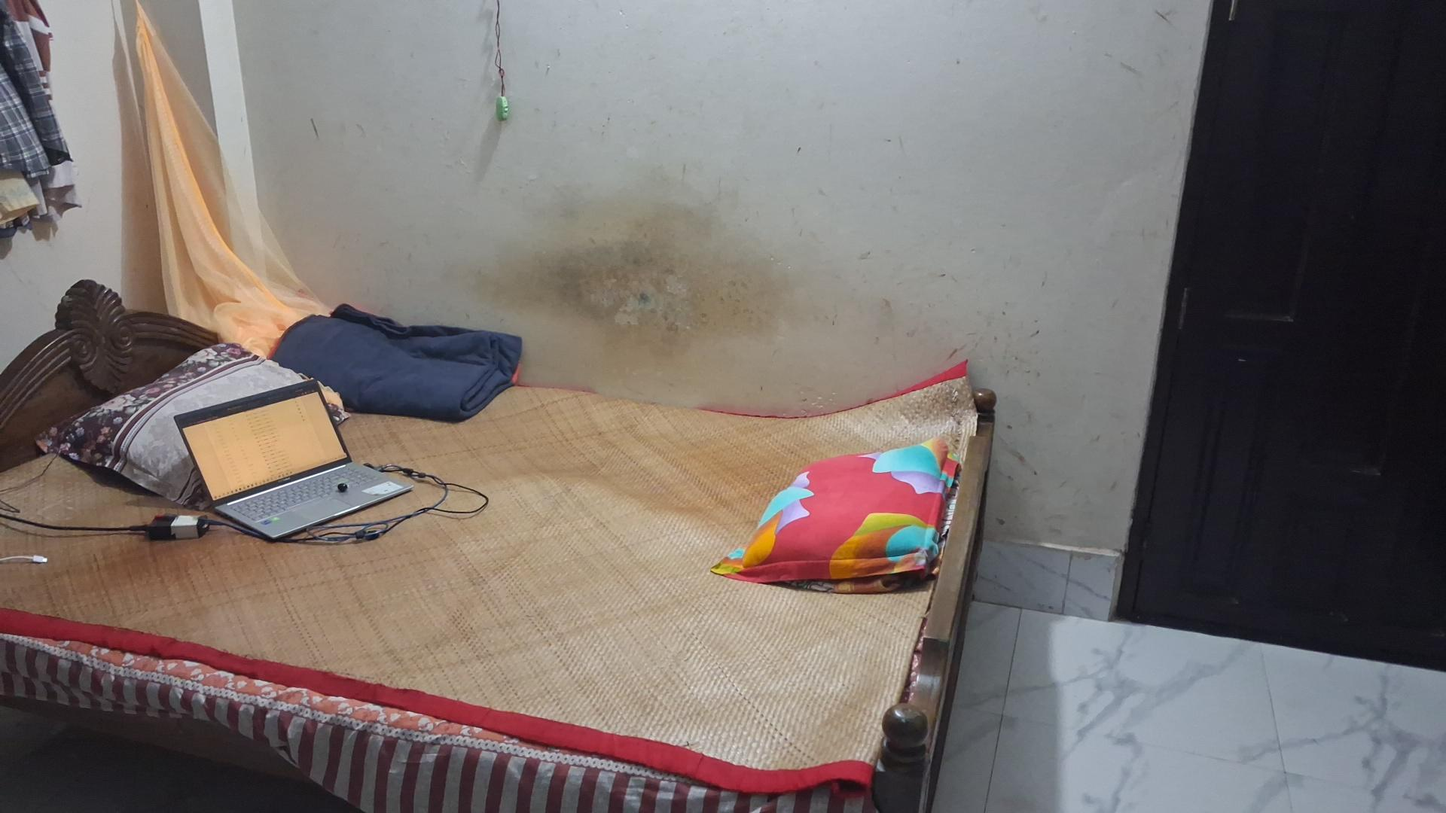Blanket: (254, 293, 521, 421)
Door: (1130, 203, 1440, 669)
Laptop: (176, 376, 413, 540)
Pillow: (30, 343, 341, 488), (738, 443, 946, 582)
